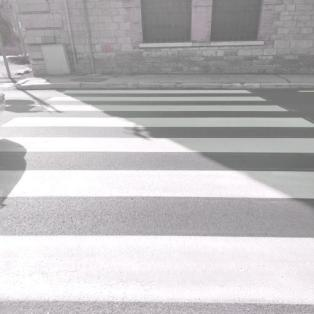Paso de Cebra: (0, 135, 314, 208), (25, 94, 290, 115)
